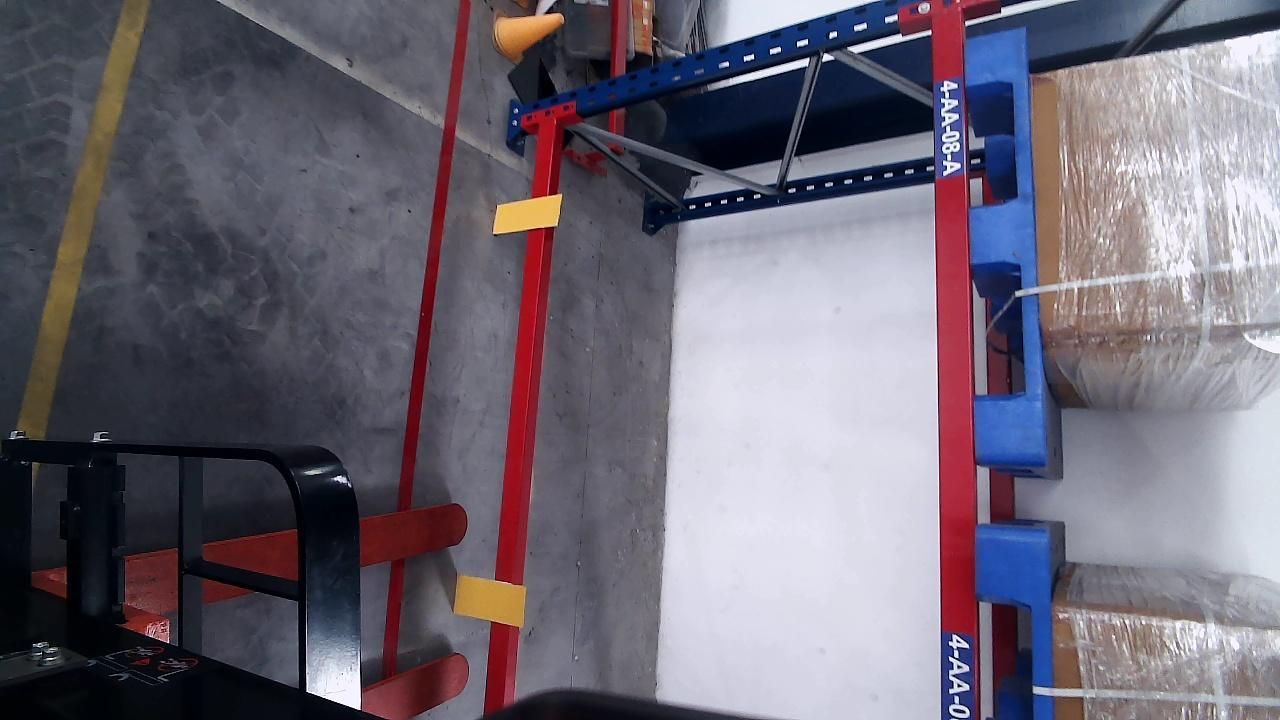h_rack: (481, 121, 555, 714), (925, 9, 976, 720)
orange_strip: (450, 575, 525, 627), (492, 191, 562, 235)
red_line: (379, 2, 473, 679)
small_pallet: (961, 31, 1042, 459), (976, 536, 1052, 720)
